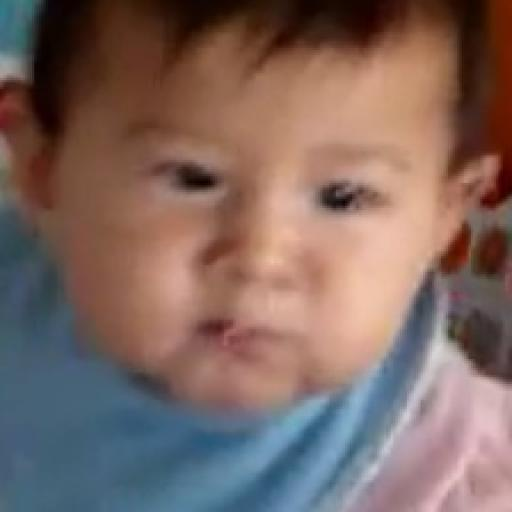Autism: (46, 14, 458, 402)
